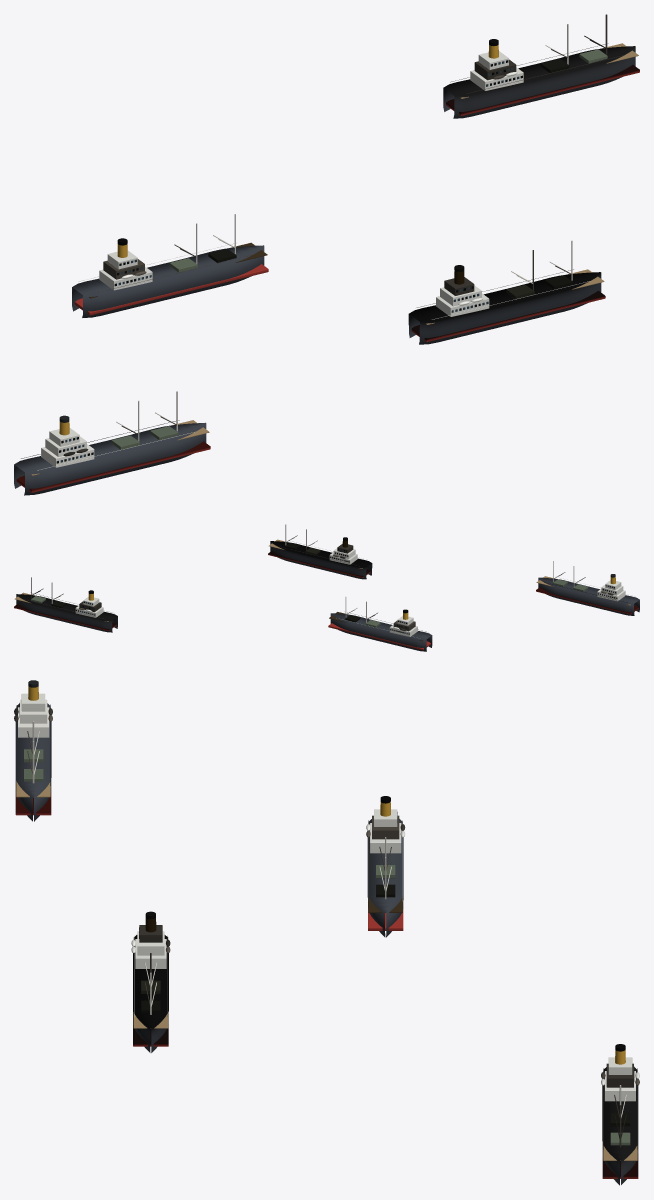
File: atlantic.glb
The picture shows the model from 3 angles, top to bottom: view 1: azimuth 30°, elevation 25°; view 2: azimuth 150°, elevation 25°; view 3: azimuth 270°, elevation 25°; orthographic projection. The views are drawn at different scales.
Parts seen in each view (by area): view 1: atlantic.paint.0, atlantic.paint.3, atlantic.paint.1, atlantic.paint.8, atlantic.paint.7, atlantic.plank.2, atlantic.glass.4; view 2: atlantic.paint.0, atlantic.paint.3, atlantic.paint.1, atlantic.paint.8, atlantic.paint.7, atlantic.glass.4, atlantic.plank.2; view 3: atlantic.paint.0, atlantic.paint.3, atlantic.paint.8, atlantic.paint.1, atlantic.paint.7, atlantic.plank.2.
Part boxes in pixels (left/top/right/bottom): atlantic.paint.0: left=14, top=46, right=635, bottom=495; atlantic.paint.3: left=21, top=43, right=624, bottom=470; atlantic.paint.1: left=16, top=65, right=639, bottom=492; atlantic.paint.8: left=111, top=49, right=607, bottom=449; atlantic.paint.7: left=116, top=14, right=607, bottom=440; atlantic.plank.2: left=31, top=43, right=638, bottom=475; atlantic.glass.4: left=56, top=60, right=522, bottom=463; atlantic.paint.0: left=16, top=541, right=639, bottom=651; atlantic.paint.3: left=24, top=540, right=635, bottom=638; atlantic.paint.1: left=14, top=551, right=638, bottom=650; atlantic.paint.8: left=31, top=542, right=588, bottom=627; atlantic.paint.7: left=31, top=524, right=585, bottom=622; atlantic.glass.4: left=76, top=548, right=617, bottom=634; atlantic.plank.2: left=15, top=539, right=630, bottom=641; atlantic.paint.0: left=15, top=703, right=638, bottom=1185; atlantic.paint.3: left=18, top=693, right=637, bottom=1149; atlantic.paint.8: left=23, top=749, right=630, bottom=1145; atlantic.paint.1: left=15, top=789, right=638, bottom=1178; atlantic.paint.7: left=27, top=721, right=626, bottom=1147; atlantic.plank.2: left=16, top=705, right=637, bottom=1160.
Size of the model in its own units: 278 by 18.85 by 160.
